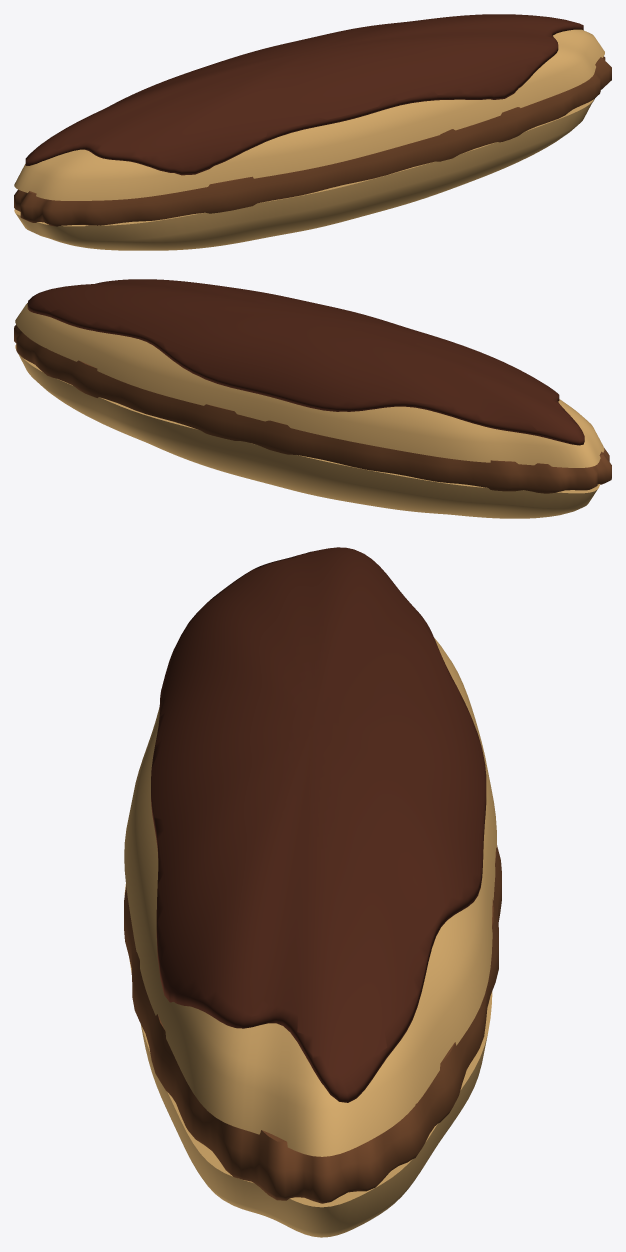
The picture shows the model from 3 angles, top to bottom: view 1: azimuth 30°, elevation 25°; view 2: azimuth 150°, elevation 25°; view 3: azimuth 270°, elevation 25°; orthographic projection. The views are drawn at different scales.
Visible parts, largest first — view 1: Thick glaze with scalloped dripping edge, Upper choux shell, Lower choux shell, Visible piped filling band; view 2: Thick glaze with scalloped dripping edge, Upper choux shell, Lower choux shell, Visible piped filling band; view 3: Thick glaze with scalloped dripping edge, Upper choux shell, Visible piped filling band, Lower choux shell.
Part boxes in pixels (x1,y1,x2,y2): Thick glaze with scalloped dripping edge: [25, 14, 583, 175]; Upper choux shell: [14, 29, 604, 200]; Lower choux shell: [14, 98, 594, 250]; Visible piped filling band: [14, 56, 611, 226]; Thick glaze with scalloped dripping edge: [27, 279, 584, 445]; Upper choux shell: [15, 303, 604, 467]; Lower choux shell: [15, 344, 600, 518]; Visible piped filling band: [14, 325, 611, 493]; Thick glaze with scalloped dripping edge: [151, 547, 486, 1102]; Upper choux shell: [124, 638, 496, 1156]; Visible piped filling band: [124, 845, 501, 1203]; Lower choux shell: [124, 884, 492, 1237].
Size of the model in its own units: 0.1836 by 0.049 by 0.051.
